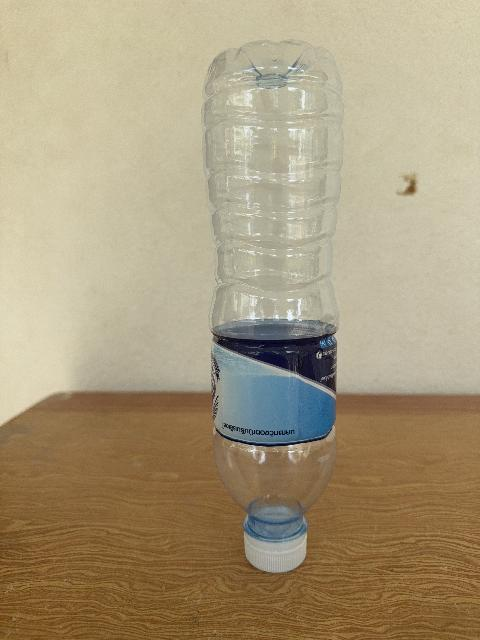bottle: (202, 41, 341, 572)
